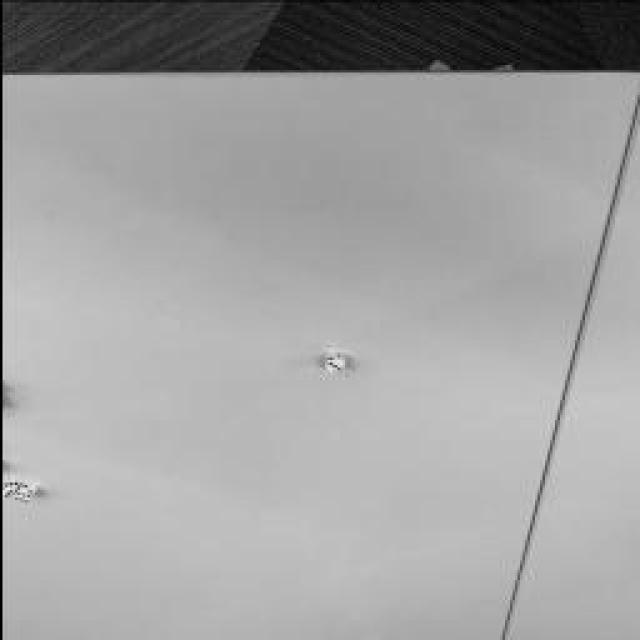dice_3: (324, 360, 341, 370)
dice_6: (11, 491, 29, 501)
